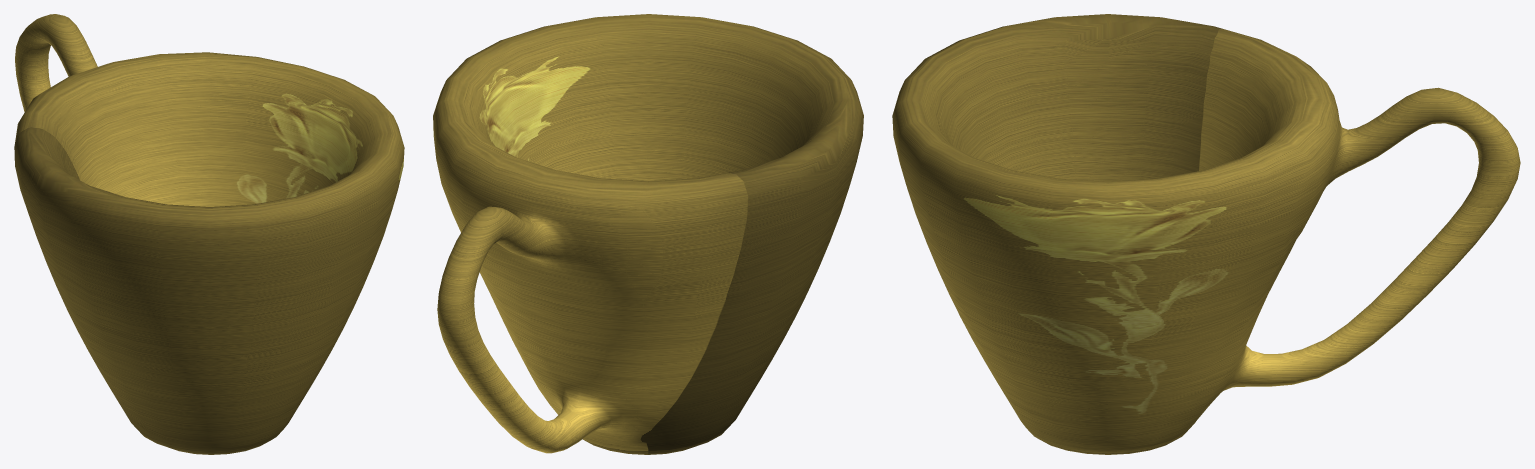
Rendered from teacup2.fbx.
3 renders of one model, left to right at view 1: azimuth 30°, elevation 25°; view 2: azimuth 150°, elevation 25°; view 3: azimuth 270°, elevation 25°, orthographic. The views are drawn at different scales.
Visible parts, largest first — view 1: teapcup; view 2: teapcup; view 3: teapcup.
Part boxes in pixels (bbox=[...]): teapcup: bbox=[14, 14, 404, 454]; teapcup: bbox=[433, 14, 863, 454]; teapcup: bbox=[892, 14, 1520, 454].
Size of the model in its own units: 1.94 by 1.67 by 2.81.
